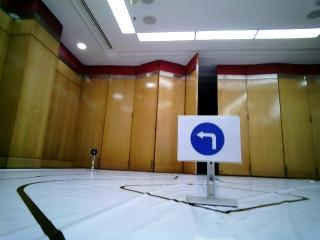left: (180, 117, 238, 158)
